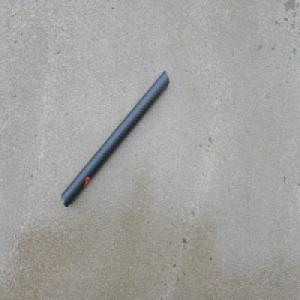LuggagePart: (60, 69, 170, 209)
